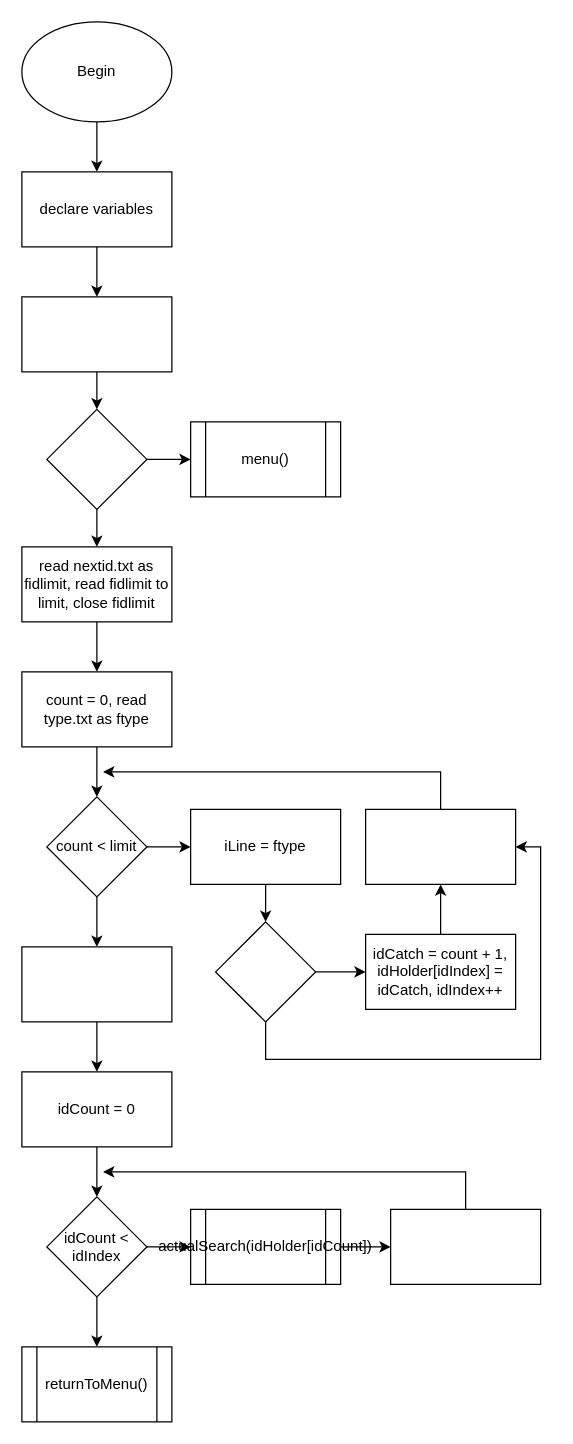
The diagram is 573 pixels wide and 1444 high, and some of its shapes have lost their labels. The centre of each missing label's shape, as x and y in pixels:
close ftype: the point at 96,984
count++: the point at 440,846
idCount++: the point at 465,1246
iLine == type: the point at 265,971
prompt user to enter type, read type: the point at 96,334
type< 0 type> 2: the point at 96,458
